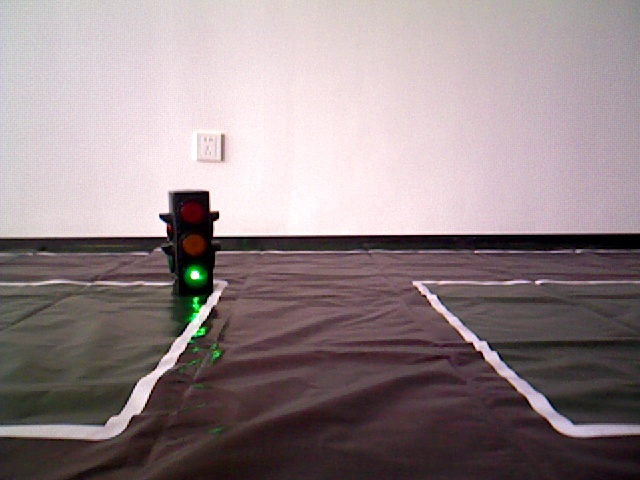green: (168, 194, 212, 294)
